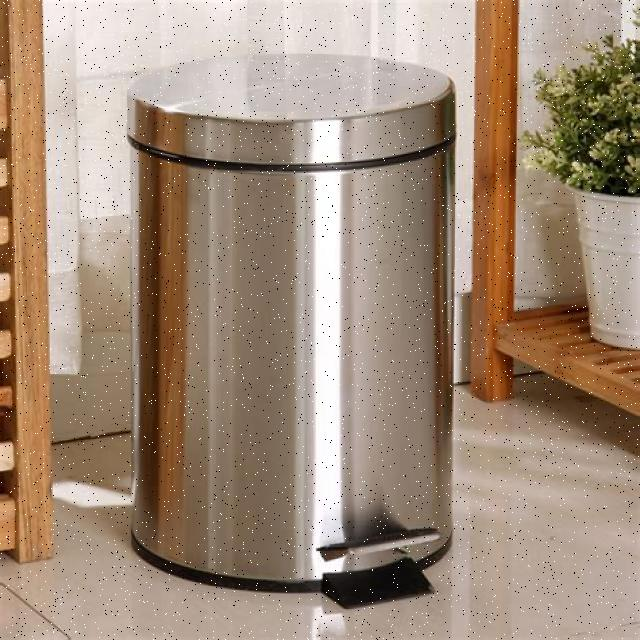garbage container: (107, 44, 488, 602)
